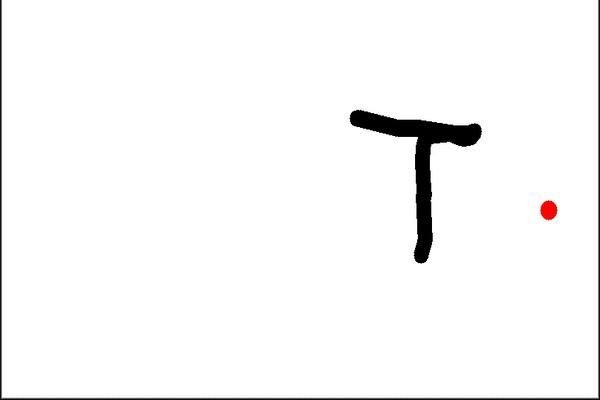T: (342, 100, 486, 265)
